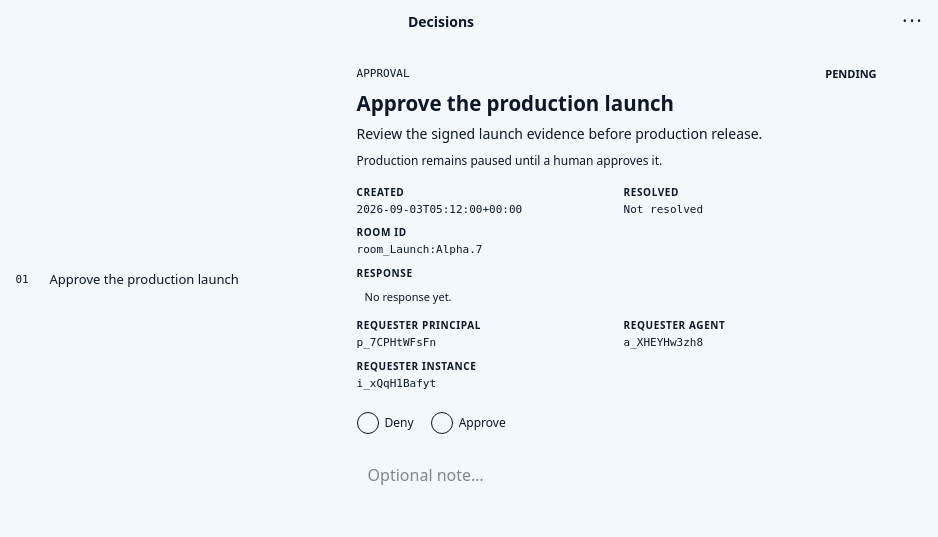
SharedNet Decisions › keeps a failed approval note and durable pending Decision available for retry
Step 1. Type "  Wait for the audit.  " into the field labelled "Optional note" → coordinates (617, 474), box [357,455,877,494]
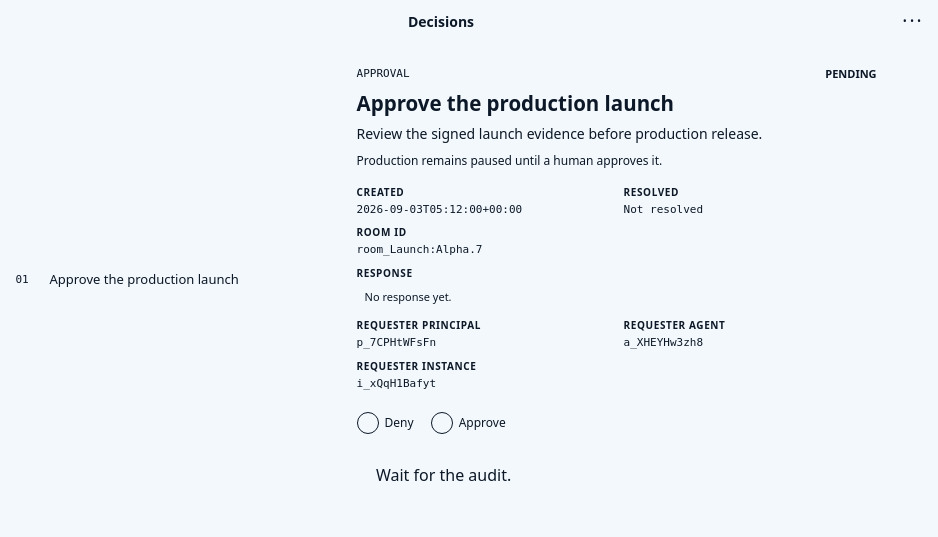
Step 2. Click the button "Deny" → coordinates (385, 423), box [357,407,414,439]
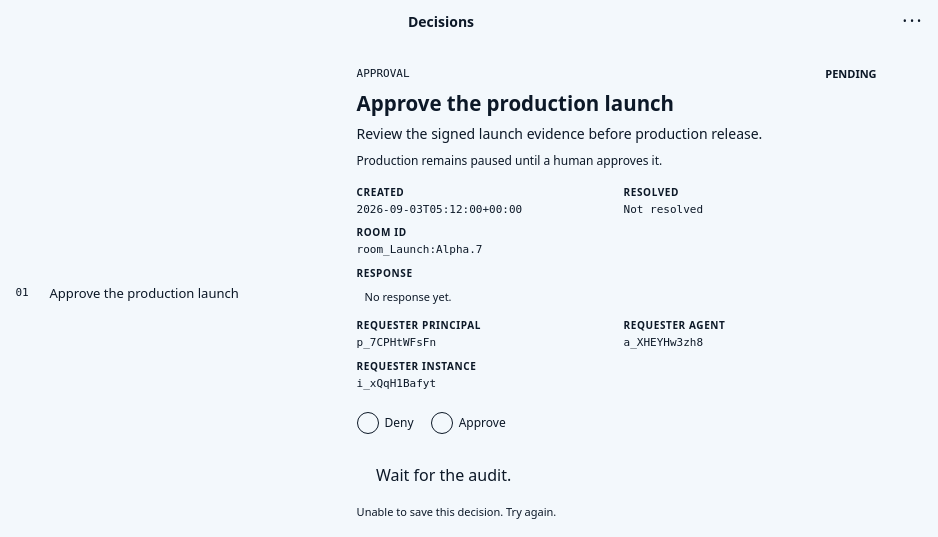
Expected: the message does not show "sensitive backend detail", [357,504,556,519]
Expected: the message reads "Unable to save this decision. Try again.", [357,504,556,519]
Step 3. Click the button "Deny" → coordinates (385, 423), box [357,407,414,439]
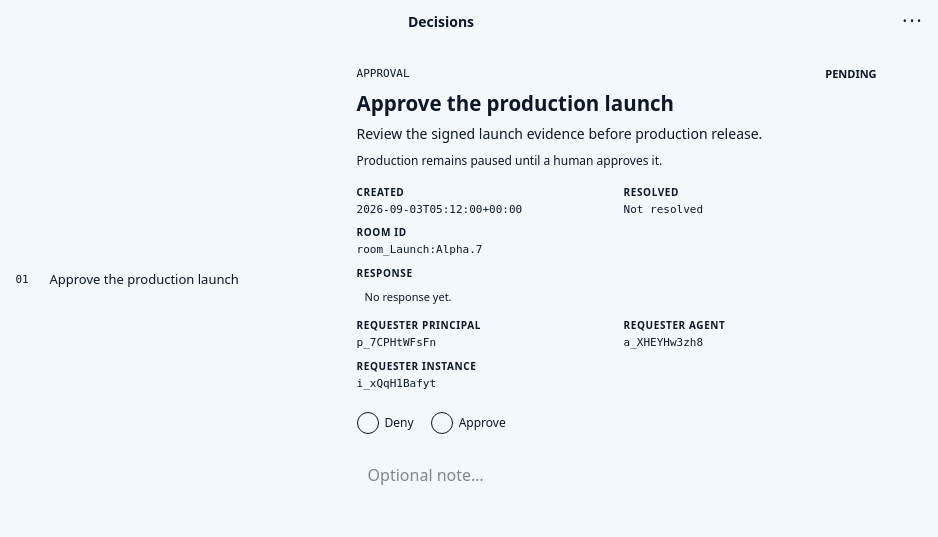
Expected: the field labelled "Optional note" is empty, [357,455,877,494]
Expected: the text "Unable to save this decision. Try again." is gone
